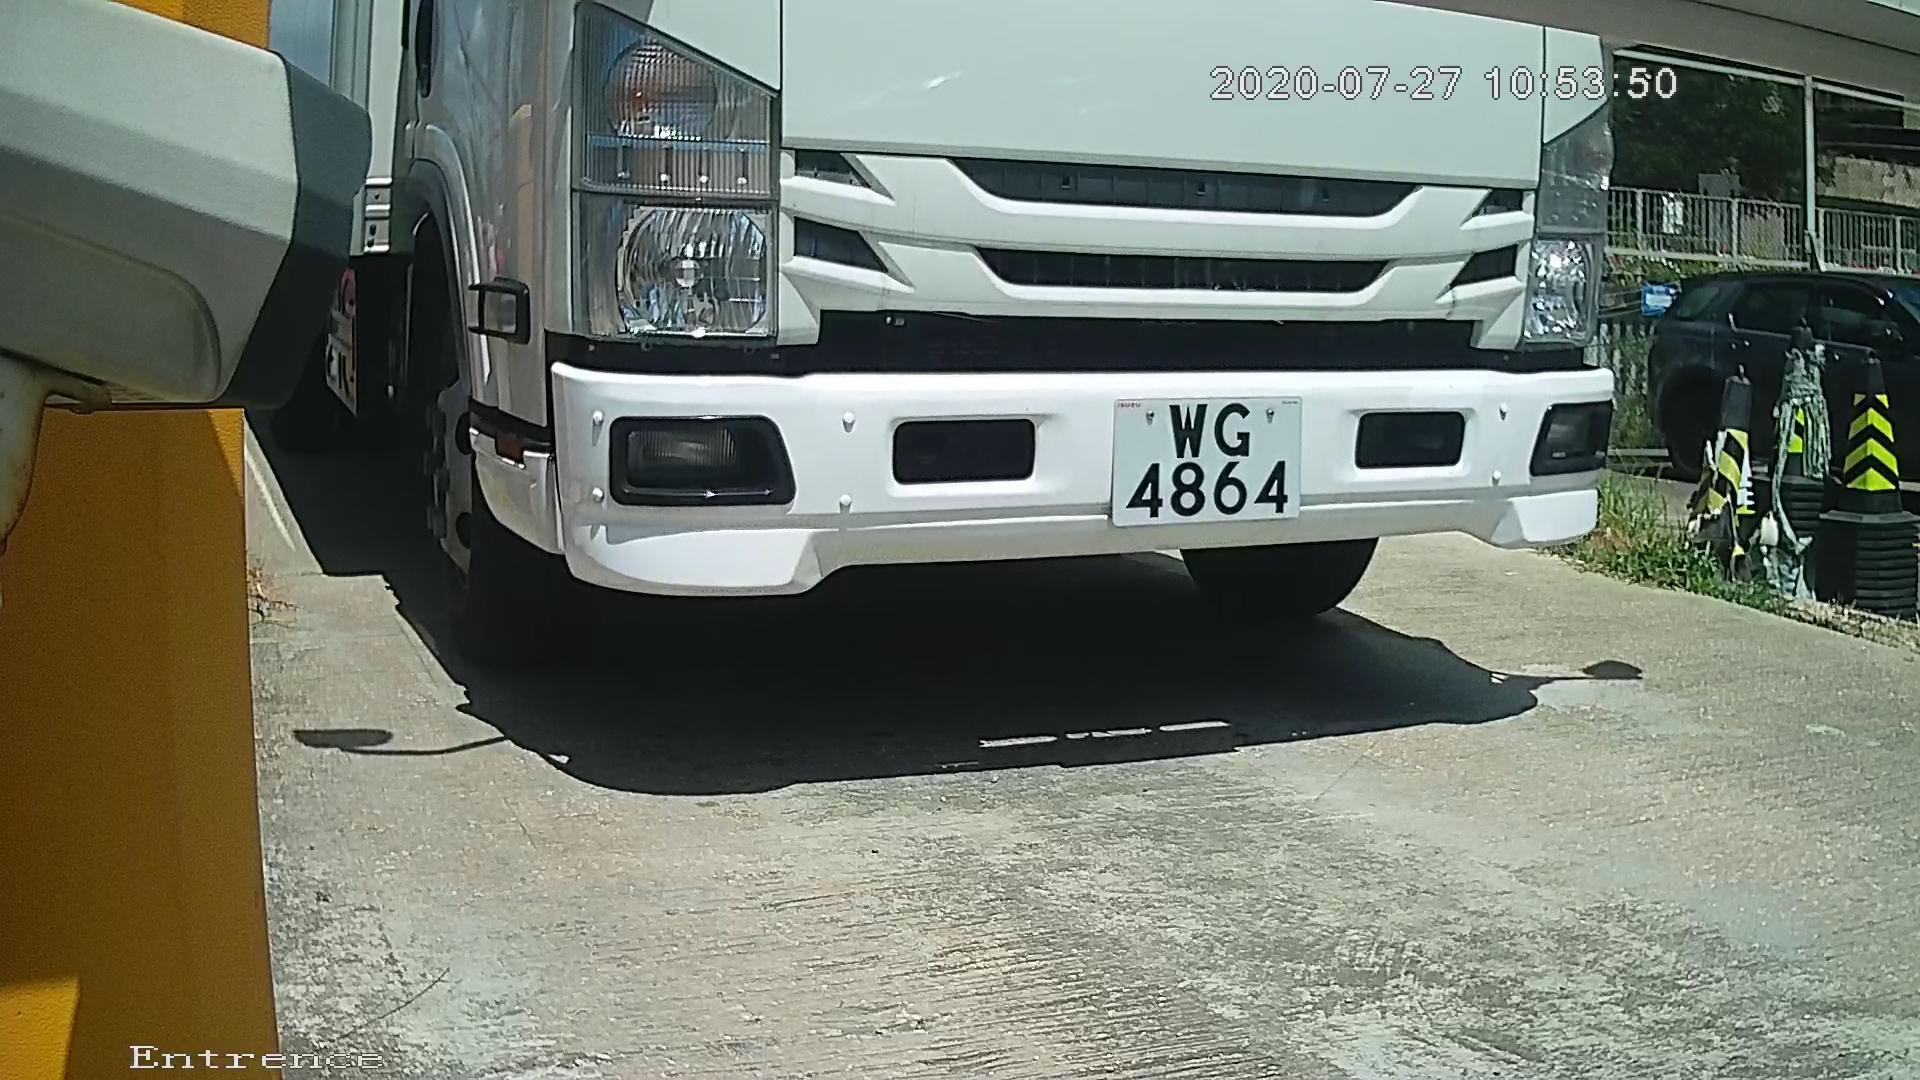Car: (43, 49, 1766, 786)
License Plate: (1029, 367, 1355, 545)
